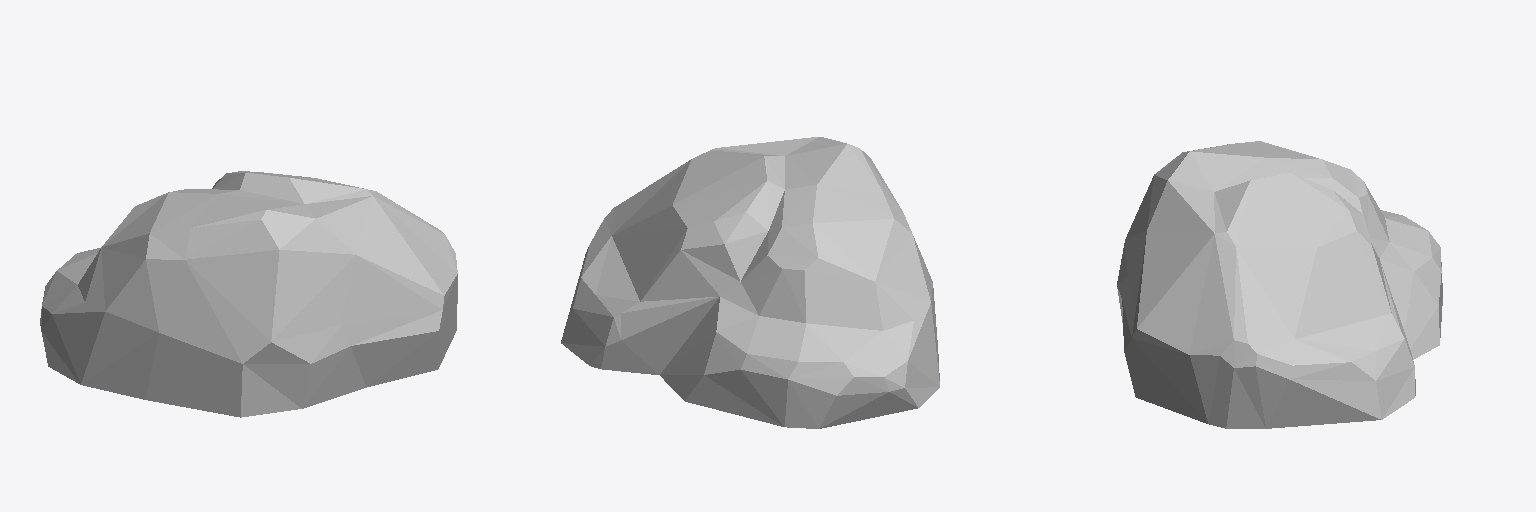
File: stone1.obj
The picture shows the model from 3 angles: view 1: azimuth 30°, elevation 25°; view 2: azimuth 150°, elevation 25°; view 3: azimuth 270°, elevation 25°; orthographic projection.
Parts seen in each view (by area): view 1: Rock_4; view 2: Rock_4; view 3: Rock_4.
Boxes of the visible parts, x1=… form: Rock_4: x1=40, y1=171, x2=457, y2=417; Rock_4: x1=561, y1=137, x2=939, y2=428; Rock_4: x1=1117, y1=141, x2=1442, y2=428.
Bounding box in the file's own units: 1.15 × 0.5356 × 0.9023.